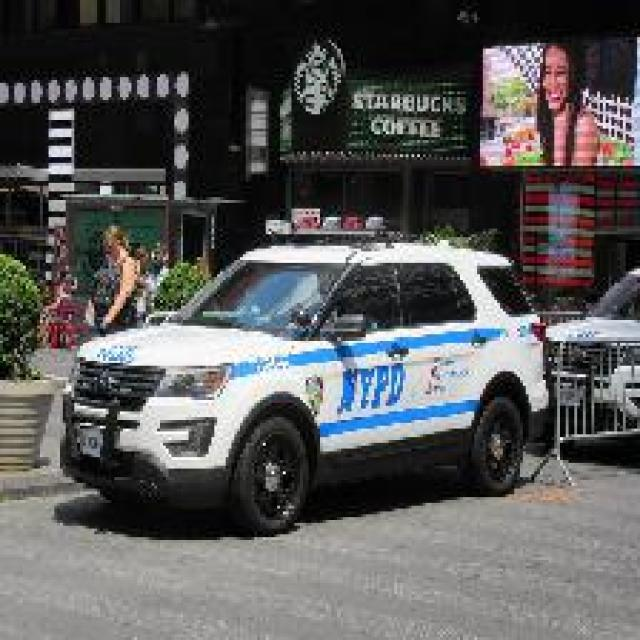fire_truck: (60, 208, 545, 530), (551, 261, 640, 460)
